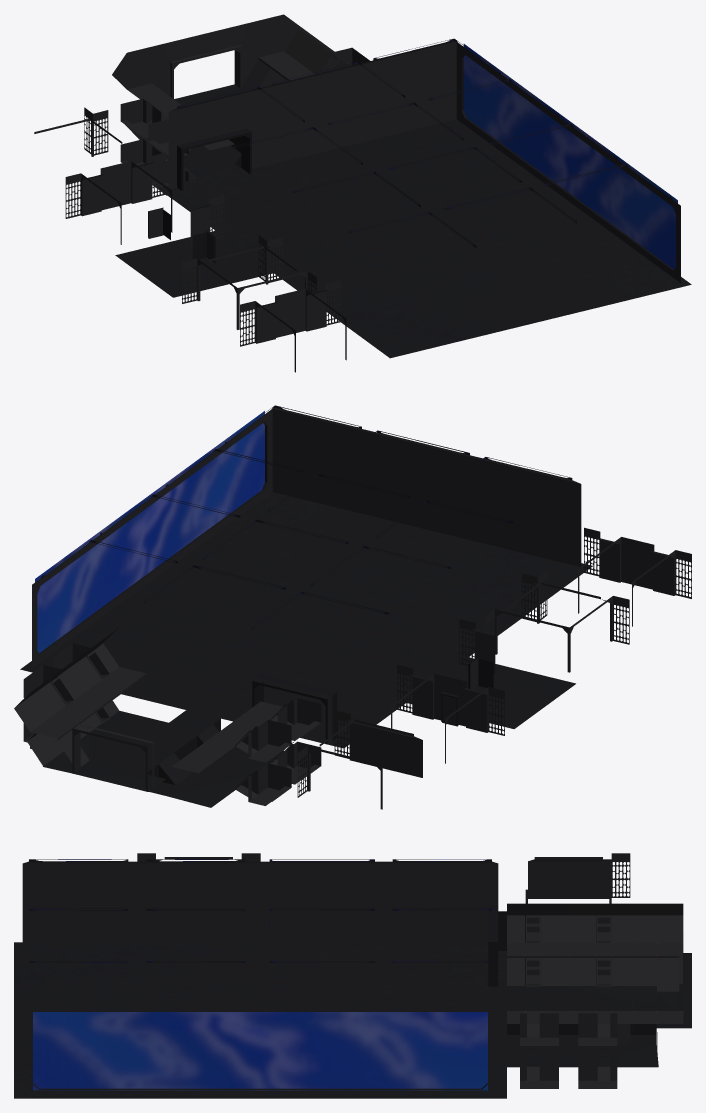
The model's file is Imperial_level_pack_v2.fbx.
The picture shows the model from 3 angles, top to bottom: view 1: azimuth 30°, elevation 25°; view 2: azimuth 150°, elevation 25°; view 3: azimuth 270°, elevation 25°; orthographic projection. The views are drawn at different scales.
Visible parts, largest first — view 1: 3.4 floor, Hanger.1, RayShield, BrigEnd, 1.1 floor, HallWDoor, Hanger.2, Hall, Intersect, BrigEndFloor, Elevator, BrigSegment (+2 smaller); view 2: 3.4 floor, Hanger.2, RayShield, BrigEnd, BrigEndFloor, BrigSegment, Hanger.1, Hall, Corner, HallWDoor, BrigSegmentFloor, 1.1 floor (+2 smaller); view 3: 3.4 floor, RayShield, Hanger.2, Hanger.1, BrigEnd, BrigSegment, BrigEndFloor, Corner, BrigSegmentFloor, Intersect.
Part boxes in pixels (left/top/right/bottom): 3.4 floor: left=158, top=119, right=691, bottom=358; Hanger.1: left=168, top=38, right=566, bottom=197; RayShield: left=463, top=44, right=677, bottom=268; BrigEnd: left=112, top=14, right=369, bottom=165; 1.1 floor: left=115, top=231, right=272, bottom=297; HallWDoor: left=65, top=152, right=172, bottom=244; Hanger.2: left=293, top=121, right=680, bottom=282; Hall: left=240, top=280, right=346, bottom=372; Intersect: left=182, top=235, right=316, bottom=329; BrigEndFloor: left=139, top=84, right=245, bottom=168; Elevator: left=190, top=195, right=224, bottom=263; BrigSegment: left=148, top=54, right=352, bottom=197; 3.4 floor: left=20, top=492, right=592, bottom=748; Hanger.2: left=146, top=405, right=581, bottom=582; RayShield: left=35, top=411, right=264, bottom=652; BrigEnd: left=14, top=650, right=291, bottom=805; BrigEndFloor: left=43, top=733, right=251, bottom=807; BrigSegment: left=53, top=628, right=321, bottom=784; Hanger.1: left=32, top=494, right=450, bottom=744; Hall: left=578, top=527, right=691, bottom=626; Corner: left=297, top=710, right=422, bottom=809; HallWDoor: left=391, top=664, right=504, bottom=763; BrigSegmentFloor: left=90, top=710, right=283, bottom=773; 1.1 floor: left=407, top=657, right=575, bottom=728; 3.4 floor: left=14, top=942, right=506, bottom=1098; RayShield: left=33, top=1012, right=487, bottom=1090; Hanger.2: left=22, top=859, right=269, bottom=1089; Hanger.1: left=268, top=859, right=506, bottom=1089; BrigEnd: left=568, top=903, right=691, bottom=1088; BrigSegment: left=507, top=903, right=568, bottom=1088; BrigEndFloor: left=568, top=986, right=691, bottom=1067; Corner: left=525, top=853, right=630, bottom=903; BrigSegmentFloor: left=507, top=986, right=568, bottom=1067; Intersect: left=137, top=853, right=260, bottom=861.
Size of the model in its own units: 8000 by 1996 by 11001.
